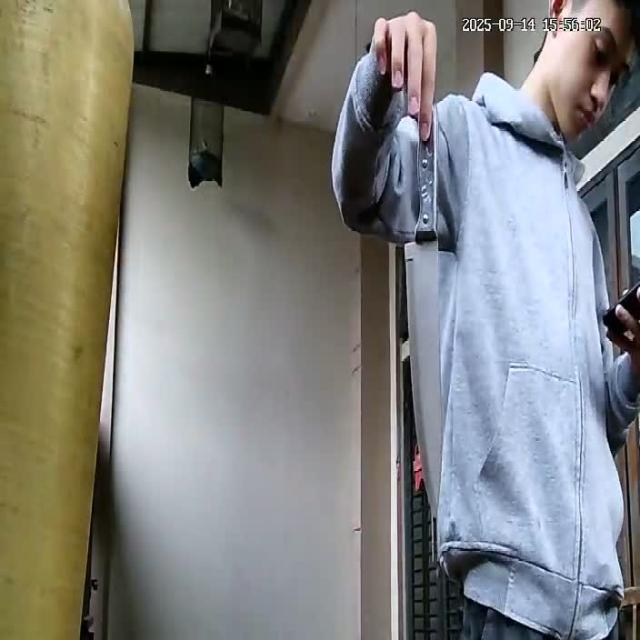senjata_tajam: (402, 136, 444, 519)
